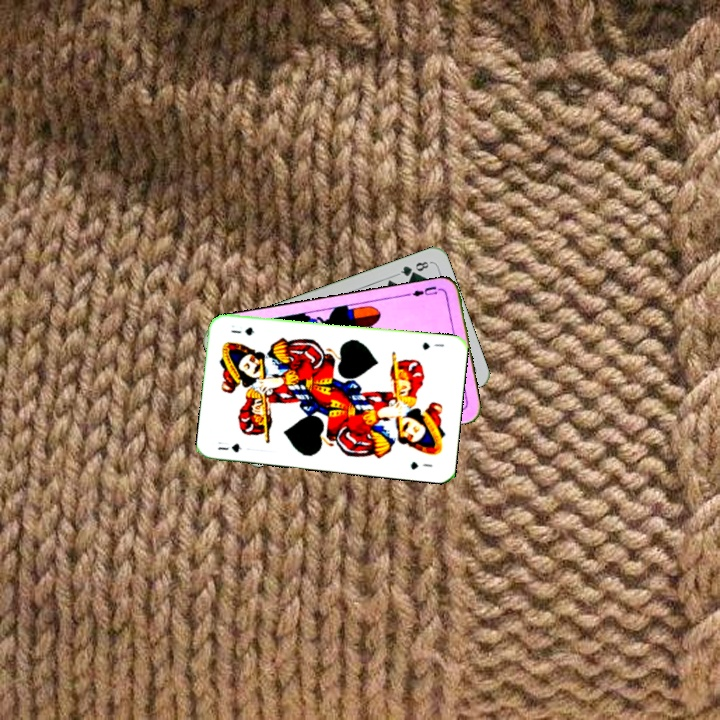EU: (408, 282, 444, 299)
G8: (394, 257, 433, 279)
GU: (214, 439, 244, 455), (419, 338, 446, 352)
